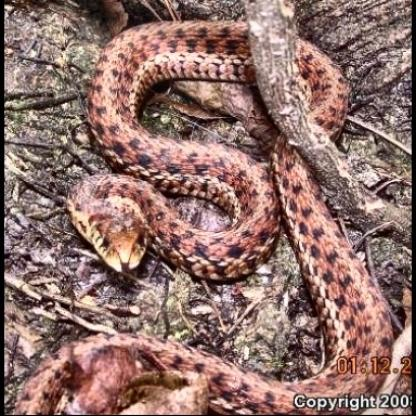Snake: (63, 14, 393, 408)
